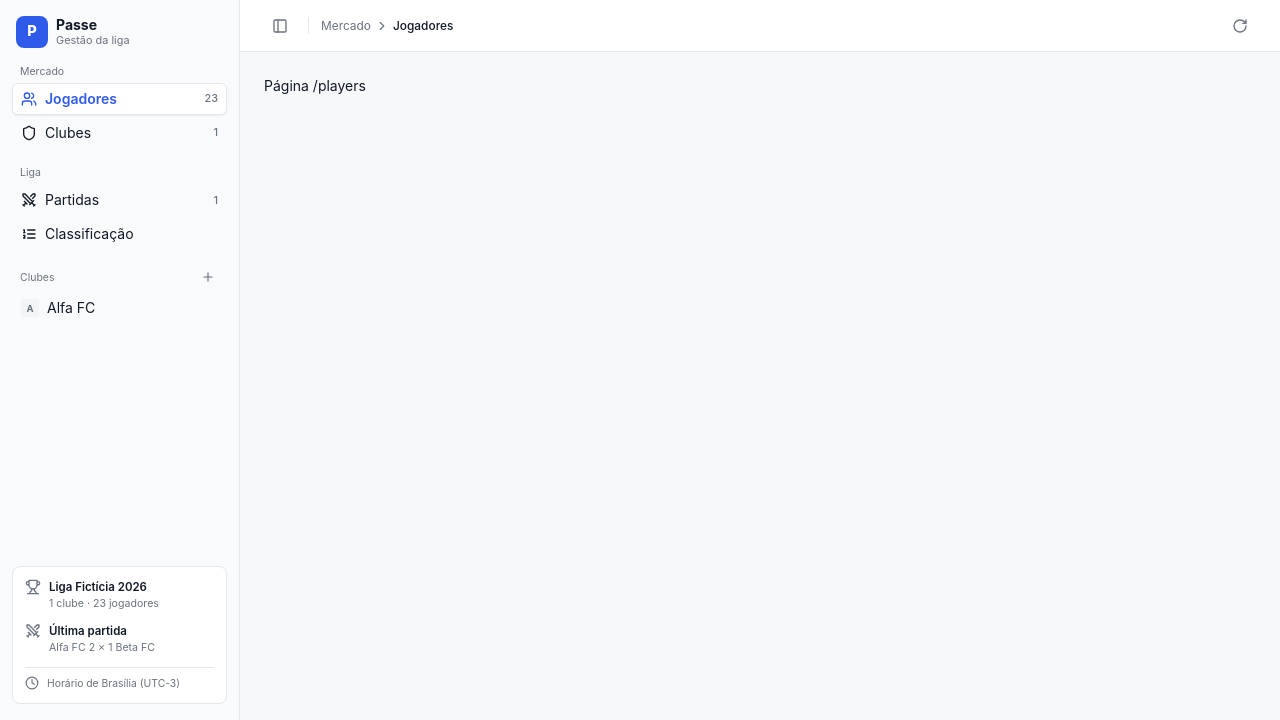
Test: Layout › opens the new club form from the sidebar
Click the button named "Novo clube". click: (208, 277)
box: [197, 266, 219, 288]
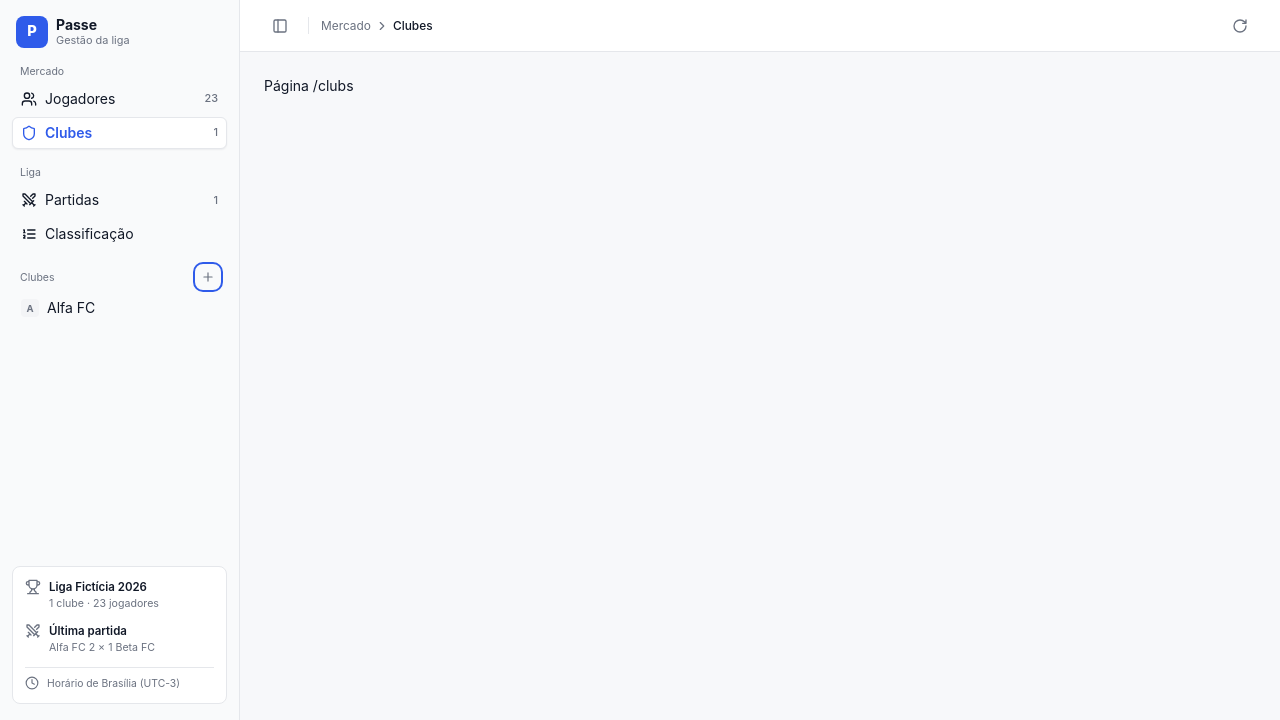
Result: the text "Página /clubs" is shown at [264, 77, 354, 94]
